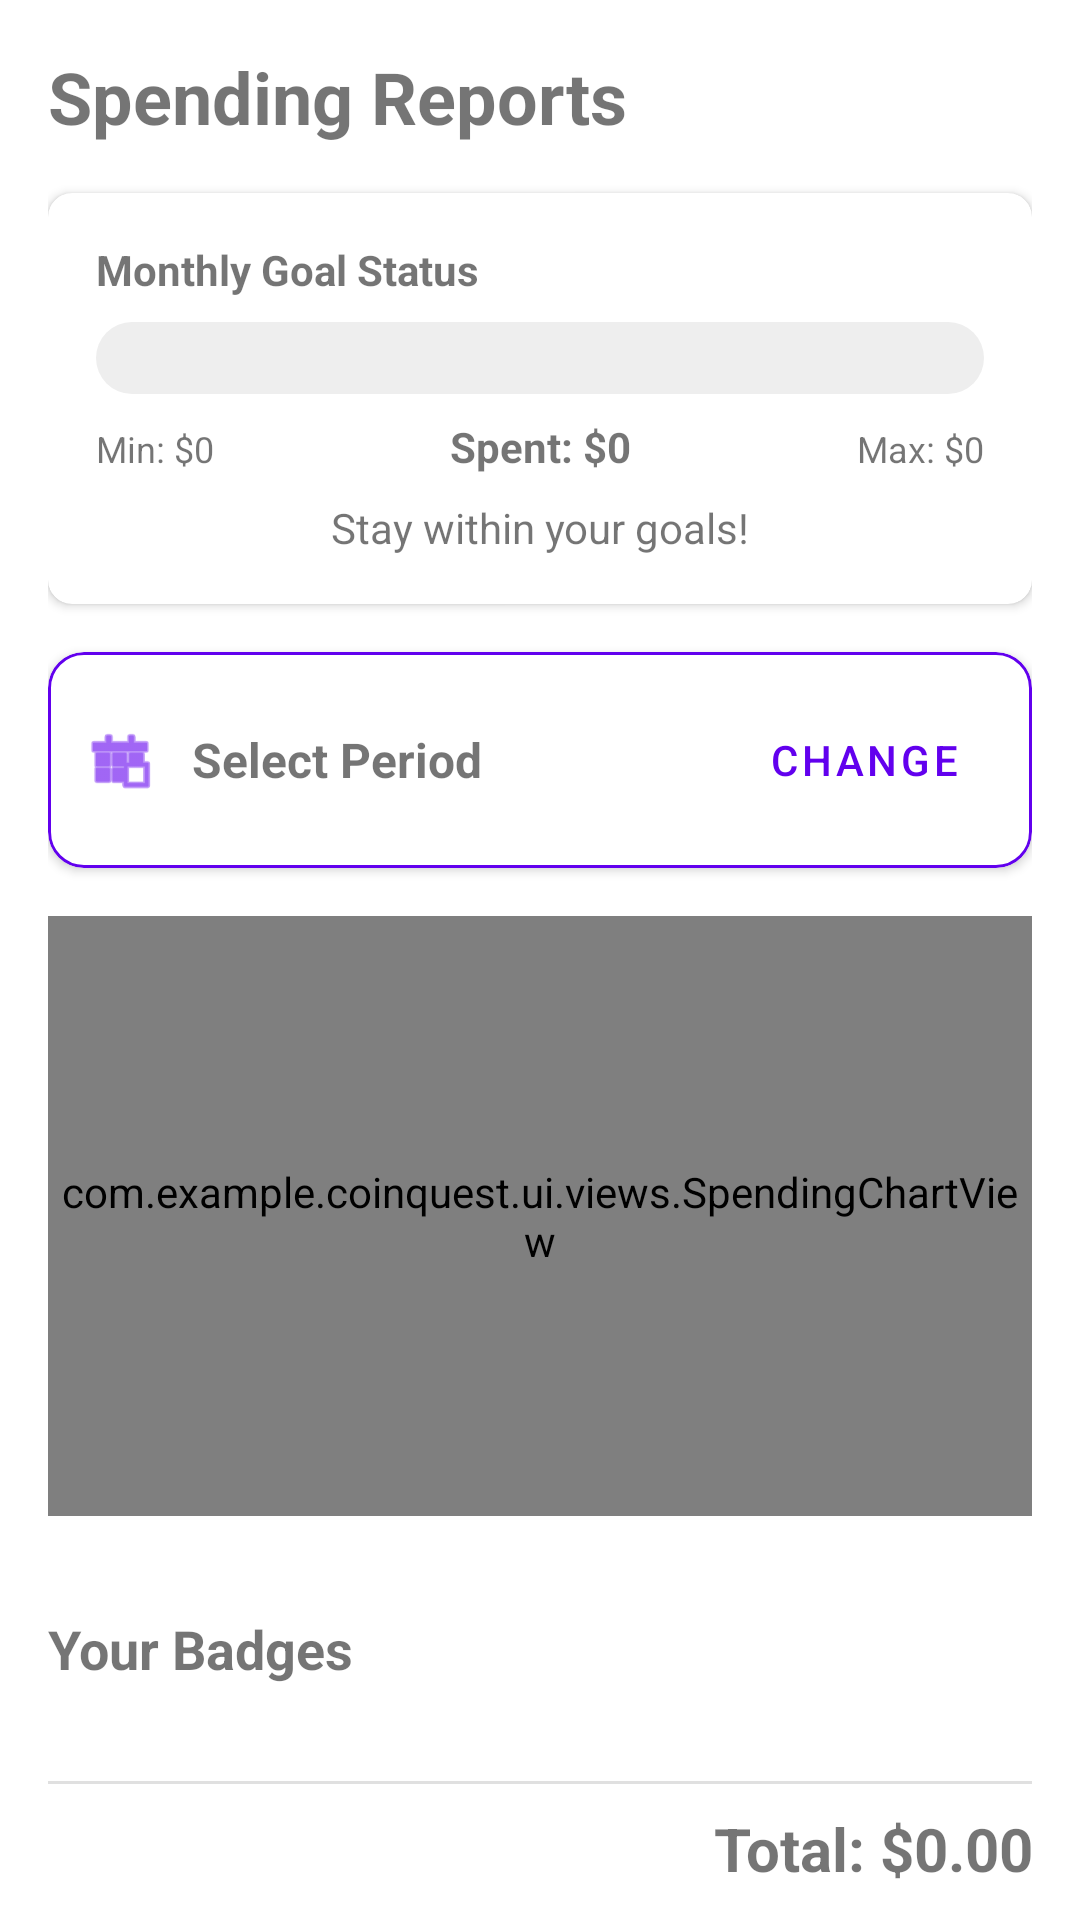

Icon bounding boxes for this 1080px x 1920px phone screenshot, format (x1, y1, x2, y2):
today: (91, 734, 150, 789)
